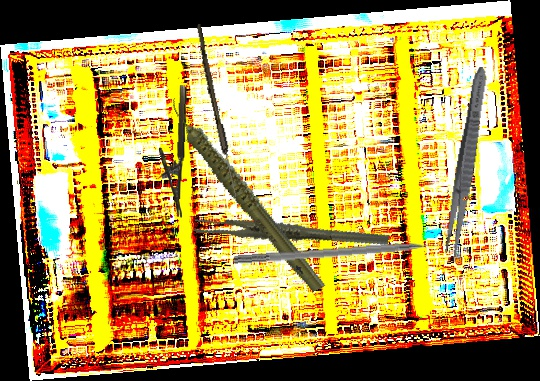Dressing Forceps: (440, 65, 492, 264)
Handpiece: (166, 72, 328, 315)
Needle Holder: (155, 84, 189, 218)
Pusher: (232, 239, 458, 267)
Surgical Spoon: (192, 23, 241, 199)
Tissue Forceps: (191, 184, 391, 282)
